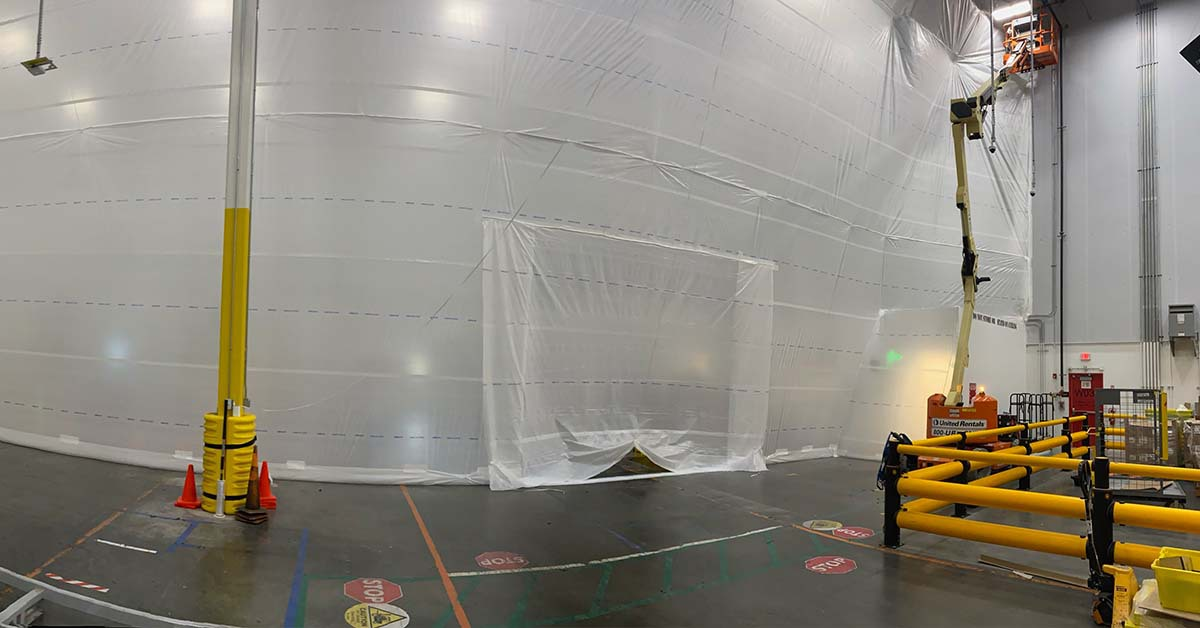Barrier: (858, 378, 1200, 595)
